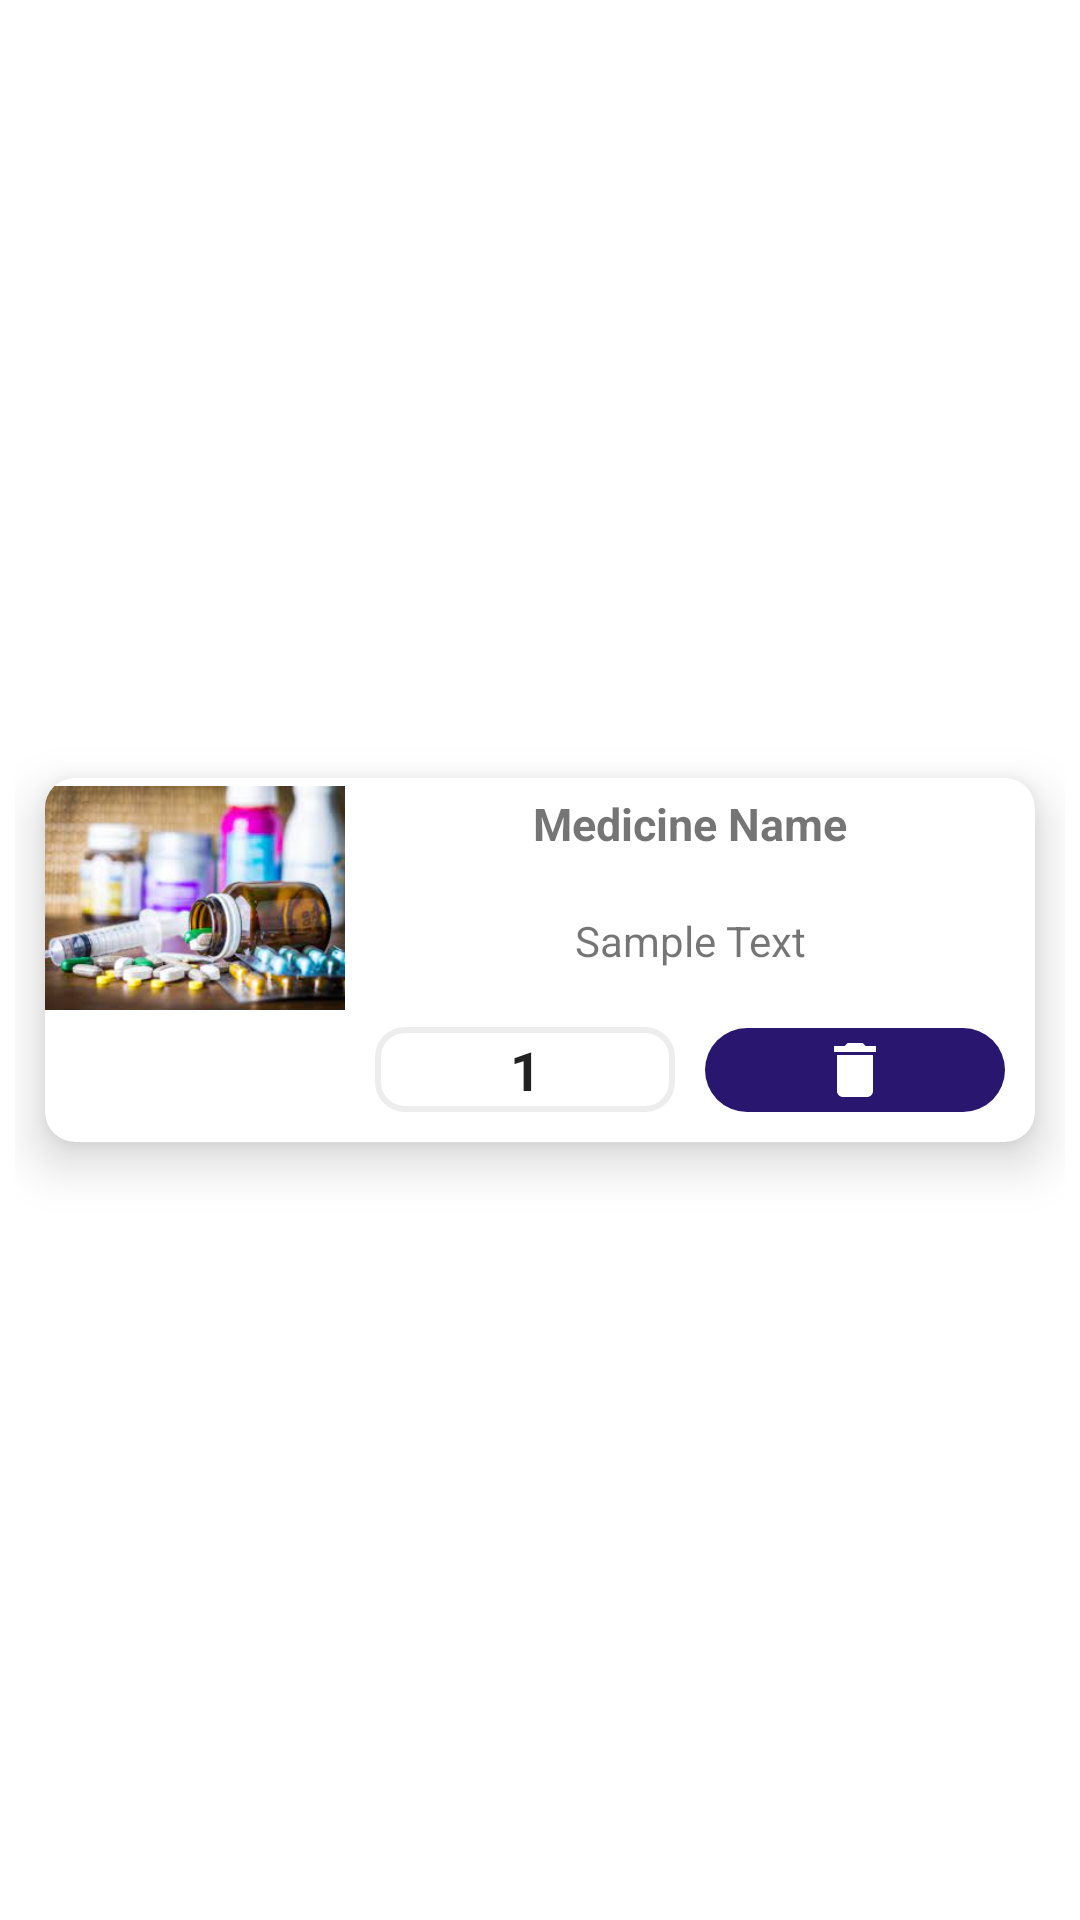

Screen size 1080w x 1920h. Icon name, then its center in pixels as (x,y):
delete: (855,1070)
medicine: (195,898)
